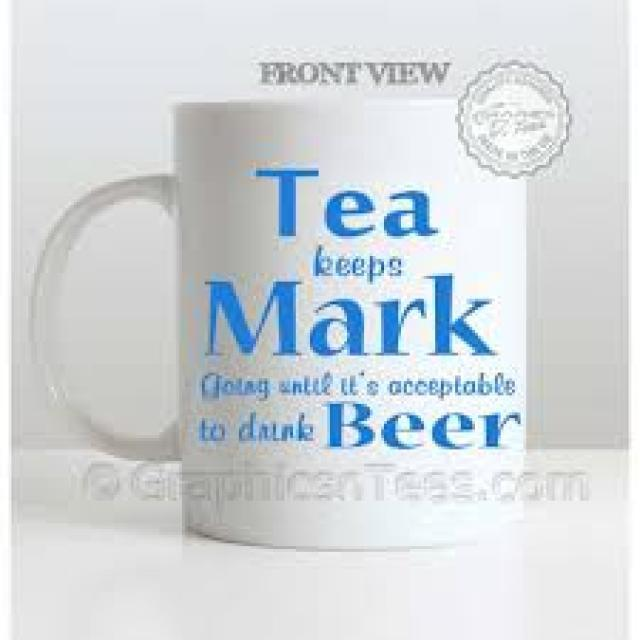taza: (24, 73, 551, 569)
